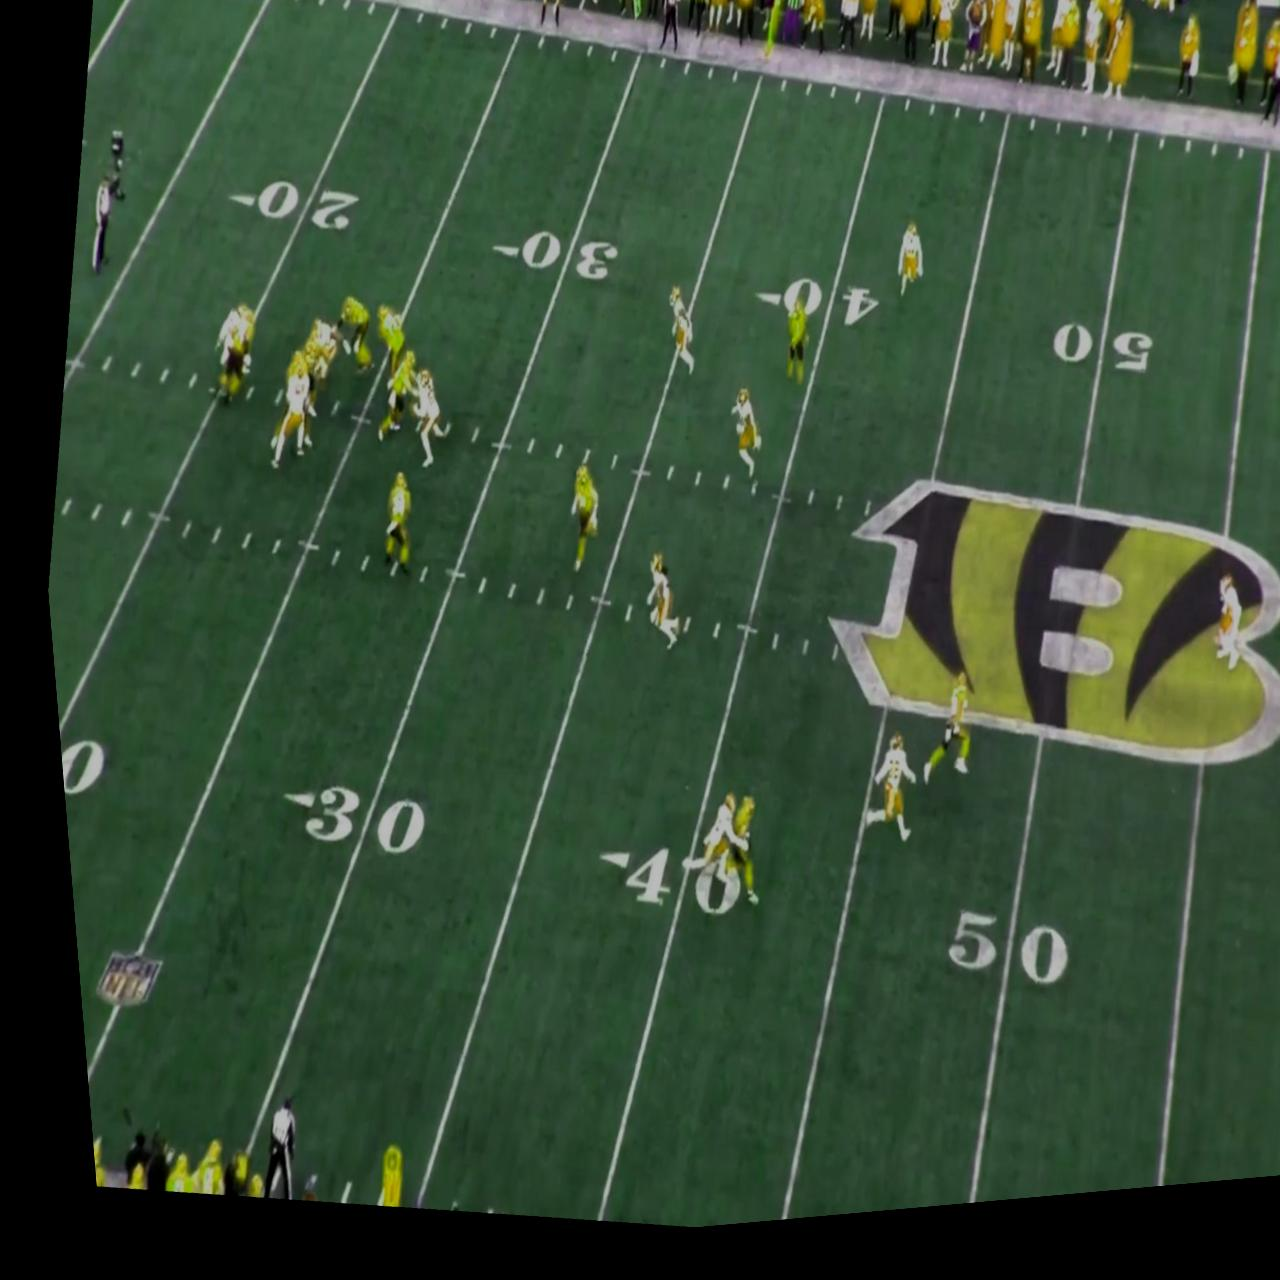20L: (220, 170, 360, 248)
30L: (261, 778, 417, 872), (482, 227, 617, 304)
40L: (574, 842, 730, 941), (744, 280, 876, 352)
50: (924, 915, 1058, 1013), (1039, 332, 1150, 403)
